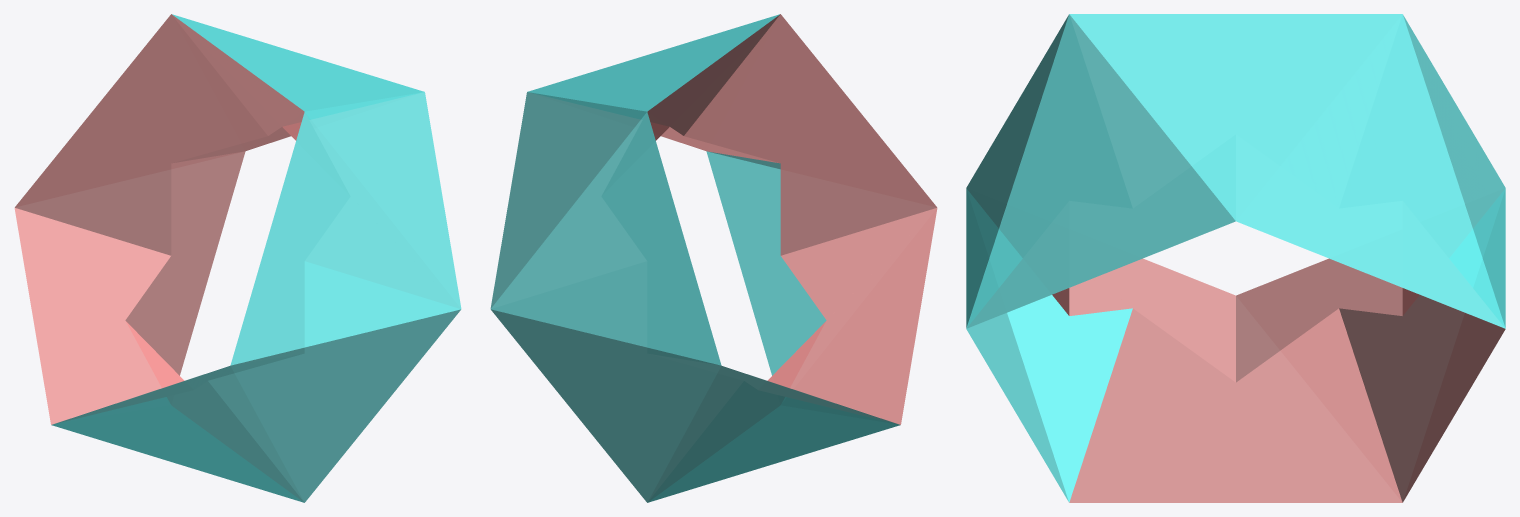
The model's file is PentagonalAntiprismTrapezohedronToroid.obj.
3 views of the same model, side by side, from view 1: azimuth 30°, elevation 25°; view 2: azimuth 150°, elevation 25°; view 3: azimuth 270°, elevation 25° (orthographic). The views are drawn at different scales.
Size of the model in its own units: 1.62 by 1.62 by 1.62.
